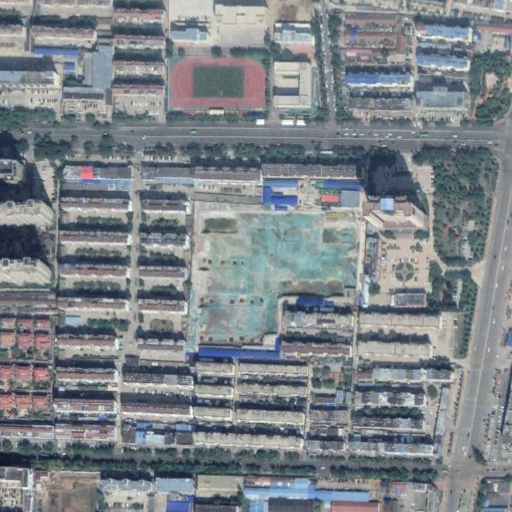cw: (191, 208, 352, 344)
